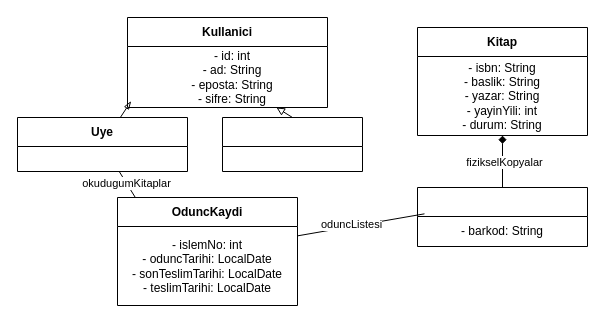
Some shapes in this 605 by 323 pixel diagram are drawn without their labels. Here are the shapes that lost their labels. From the top down, the box of each, then its label:
(222, 116, 362, 172): KutuphaneGorevlisi
(416, 186, 588, 246): KitapKopyasi
